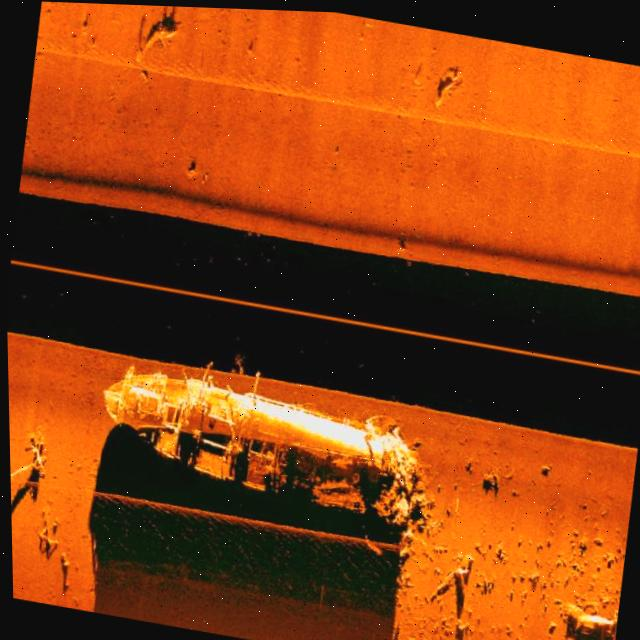shipwreck: (87, 351, 423, 521)
